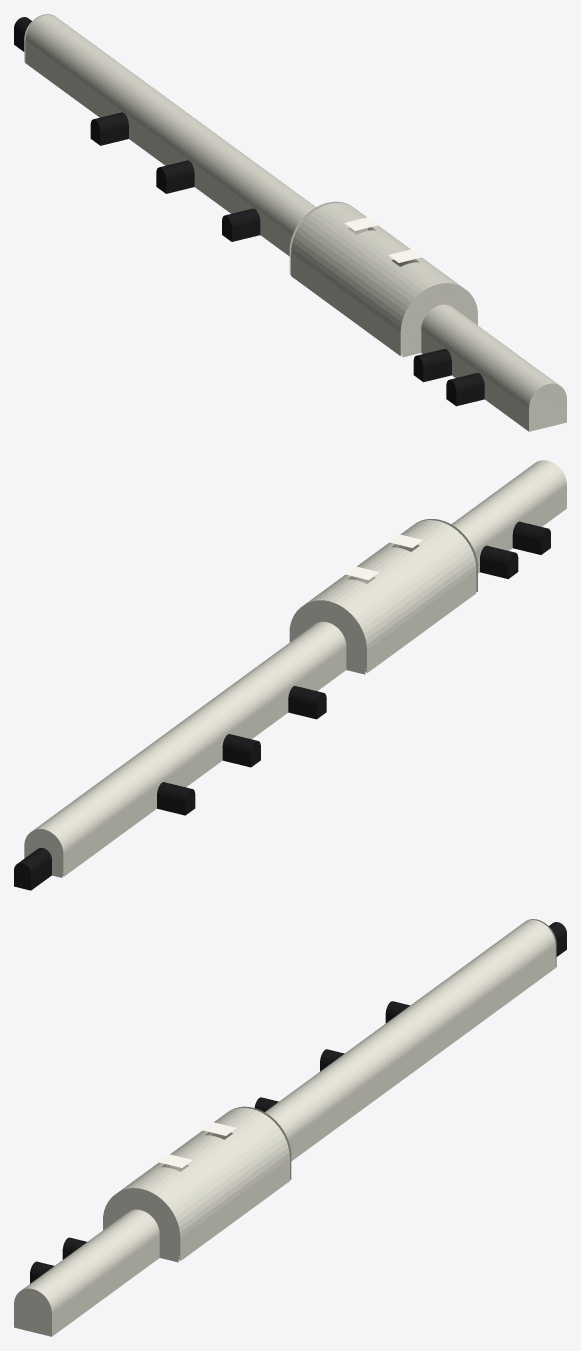
File: poolrooms.glb
3 views of the same model, one above another, from view 1: azimuth 30°, elevation 25°; view 2: azimuth 150°, elevation 25°; view 3: azimuth 330°, elevation 25° (orthographic).
Visible parts, largest first — view 1: PassageB, Hall, PassageA, HallEntry, EntranceWall, SideStub4, SideStub0, SideStub2, SideStub3, SideStub1; view 2: PassageB, Hall, PassageA, HallExit, FarWall, SideStub0, SideStub3, SideStub1, SideStub2, SideStub4, FarDoorway; view 3: PassageB, Hall, PassageA, HallEntry, EntranceWall.
Boxes of the visible parts, x1,y1,x2,y2 form: PassageB: (25,15,315,256); Hall: (291,203,461,356); PassageA: (421,304,559,431); HallEntry: (400,283,477,357); EntranceWall: (529,383,566,431); SideStub4: (94,112,128,145); SideStub0: (450,373,484,406); SideStub2: (226,208,260,241); SideStub3: (160,160,194,193); SideStub1: (417,348,451,382); PassageB: (33,621,346,876); Hall: (306,520,476,673); PassageA: (451,460,566,573); HallExit: (289,600,366,674); FarWall: (24,829,63,877); SideStub0: (512,521,547,554); SideStub3: (222,734,257,767); SideStub1: (480,545,514,578); SideStub2: (288,686,323,719); SideStub4: (157,782,191,815); FarDoorway: (17,848,51,890); PassageB: (265,920,555,1161); Hall: (119,1108,289,1261); PassageA: (21,1209,159,1336); HallEntry: (103,1188,180,1262); EntranceWall: (14,1288,51,1336).
Bounding box in the file's own units: 9 × 6.75 × 96.
5 materials, 1 textured.
